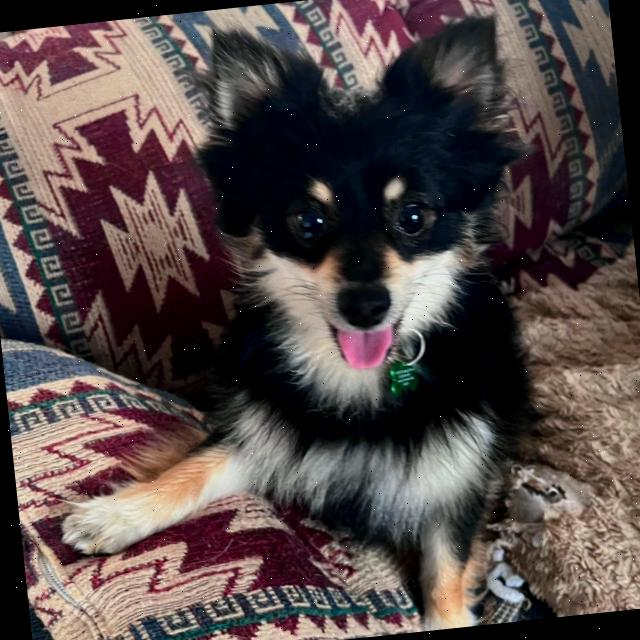pomeranian_dog: (161, 0, 571, 435)
